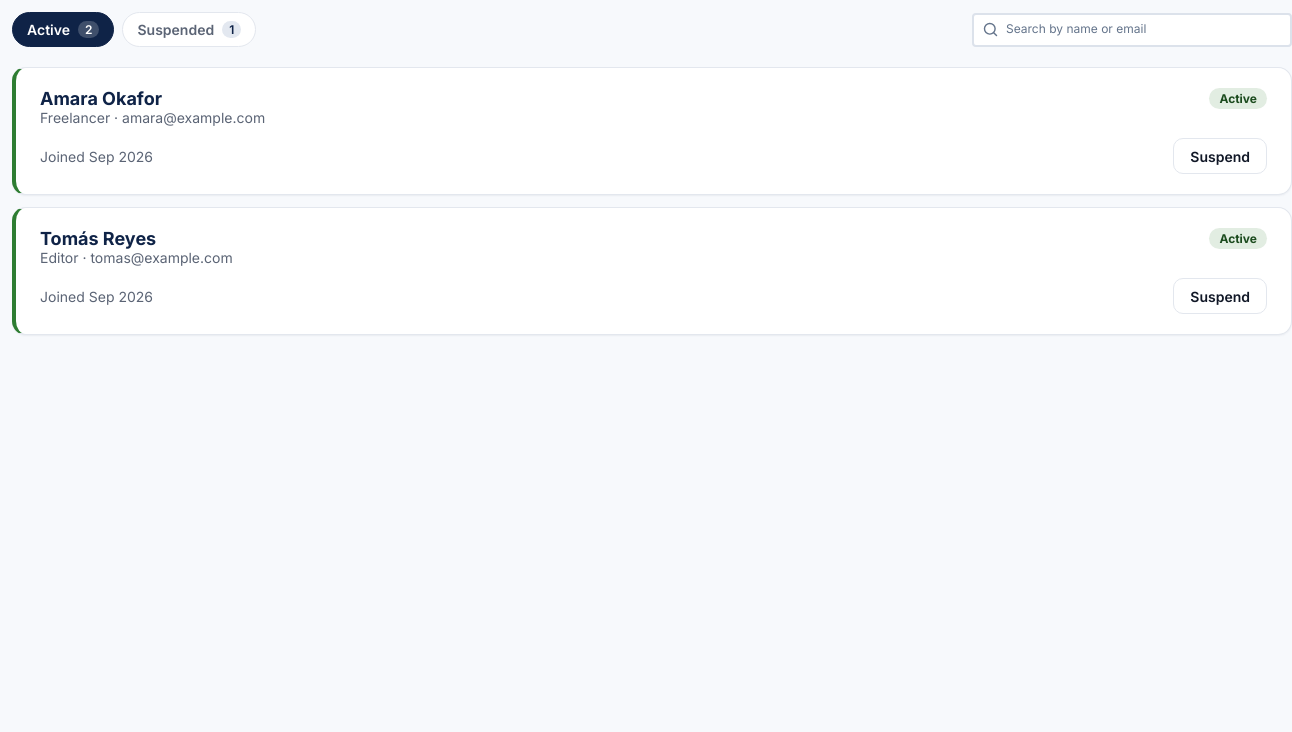
Test: AccountList › keeps the account active and shows why when the server refuses
Step 1. Click the 1st button "Suspend" → (1220, 156), box top-left (1173, 138), bottom-right (1267, 174)
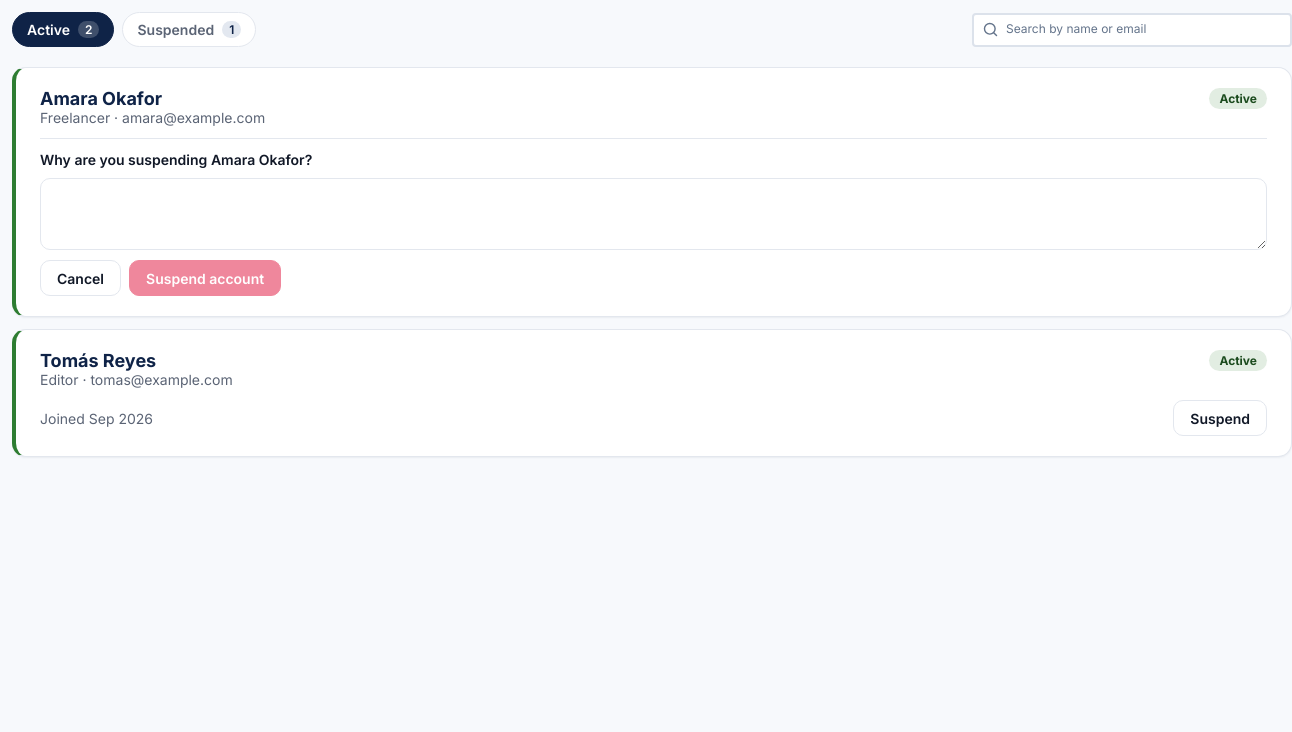
Step 2. Type "Testing" into the text box labelled "Why are you suspending Amara Okafor?" → (654, 214), box top-left (40, 178), bottom-right (1267, 250)
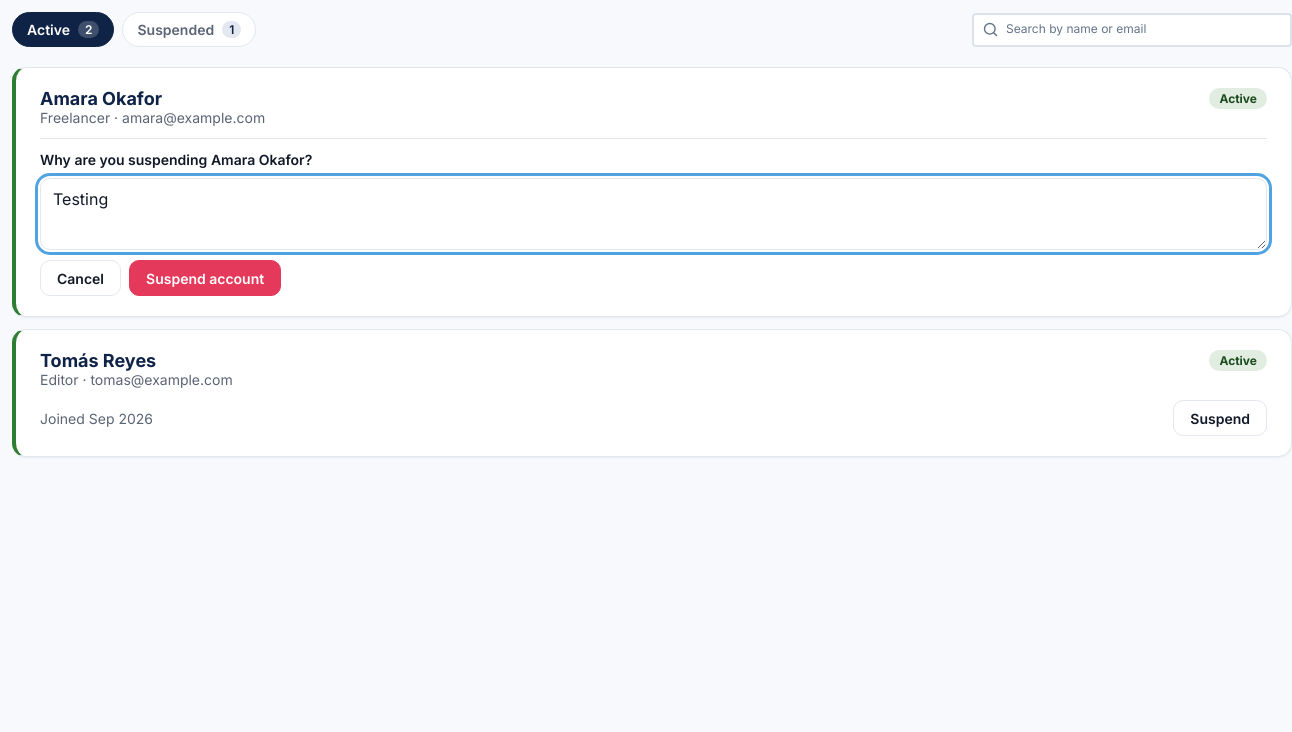
Step 3. Click the button "Suspend account" → (205, 278), box top-left (129, 260), bottom-right (281, 296)
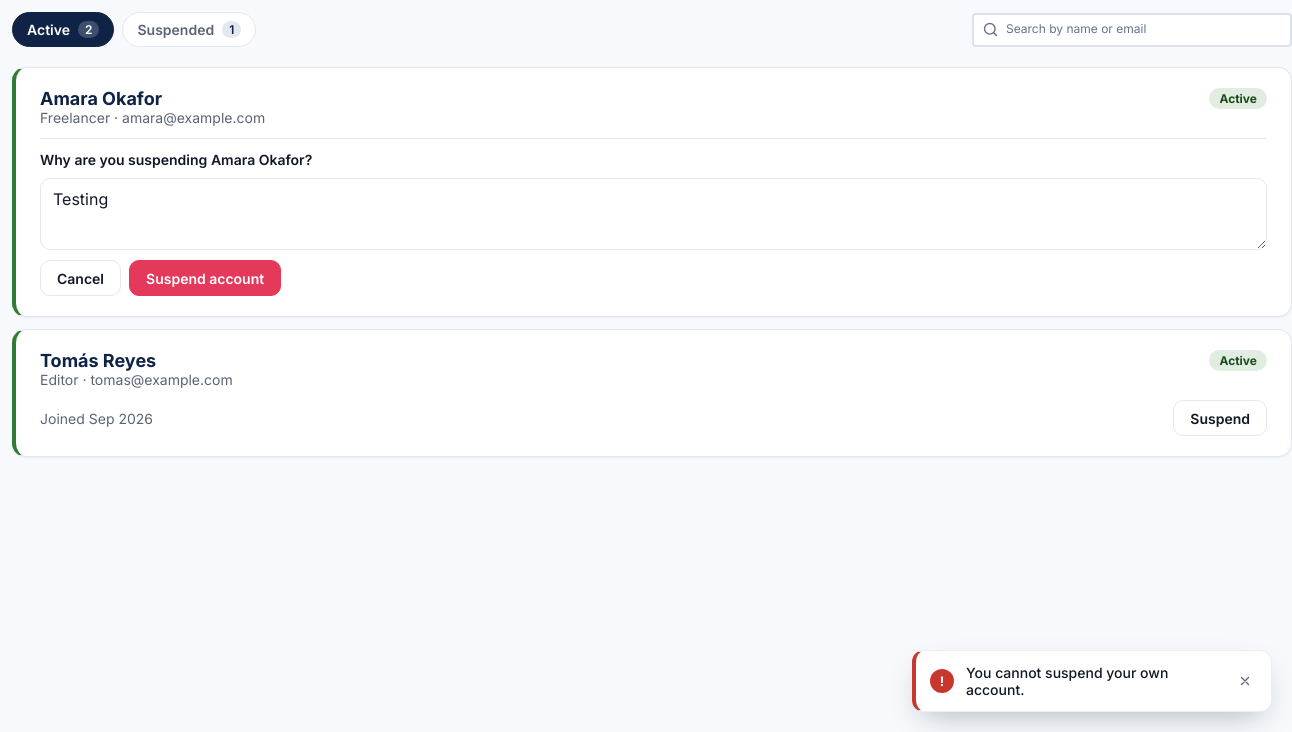
Check: the text "You cannot suspend your own account." is shown, box top-left (966, 664), bottom-right (1168, 698)
